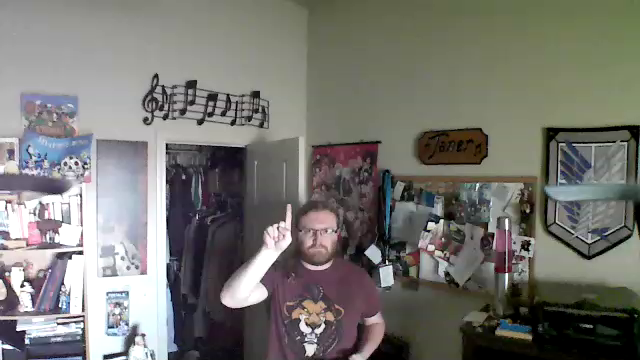up: (258, 199, 293, 251)
